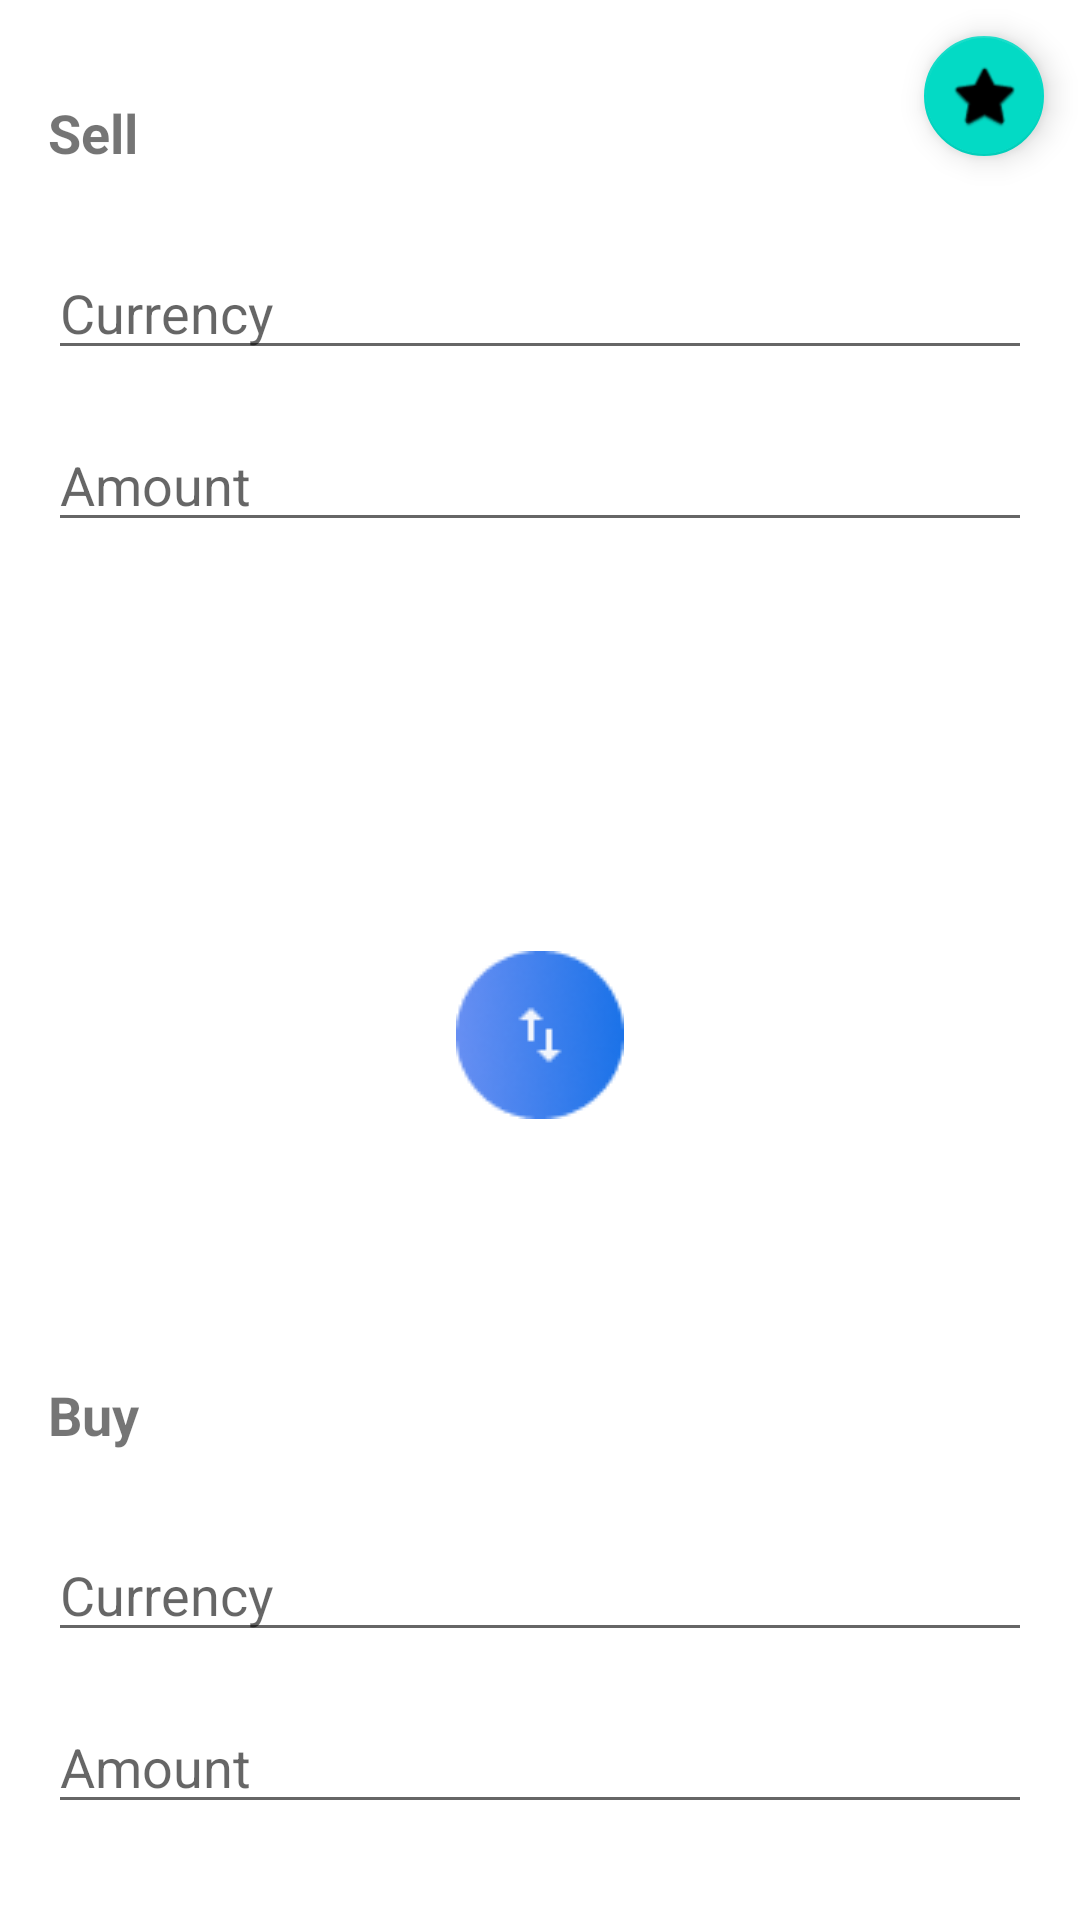

Screen size 1080×1920. Icon name, then its center in pixels as [x,y]:
star off: [985,96]
